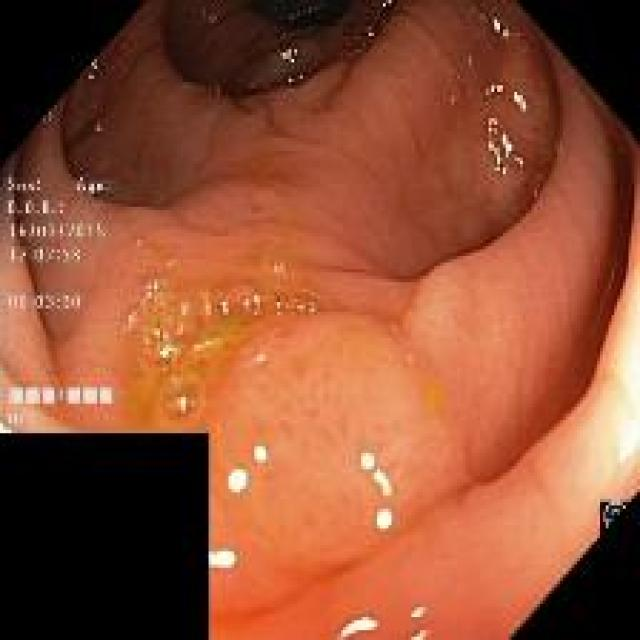Polyps: (206, 314, 466, 579)
